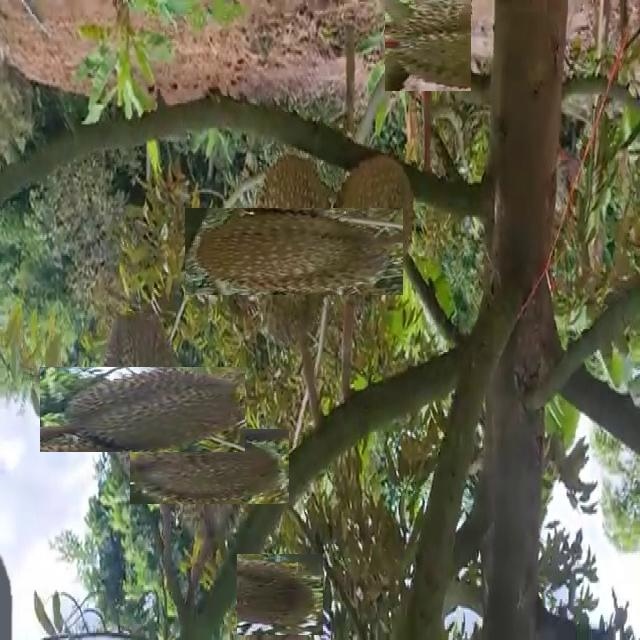durian: (218, 175, 370, 328), (70, 336, 215, 482), (327, 150, 418, 317), (151, 407, 268, 525), (384, 1, 473, 90), (239, 552, 322, 636)
